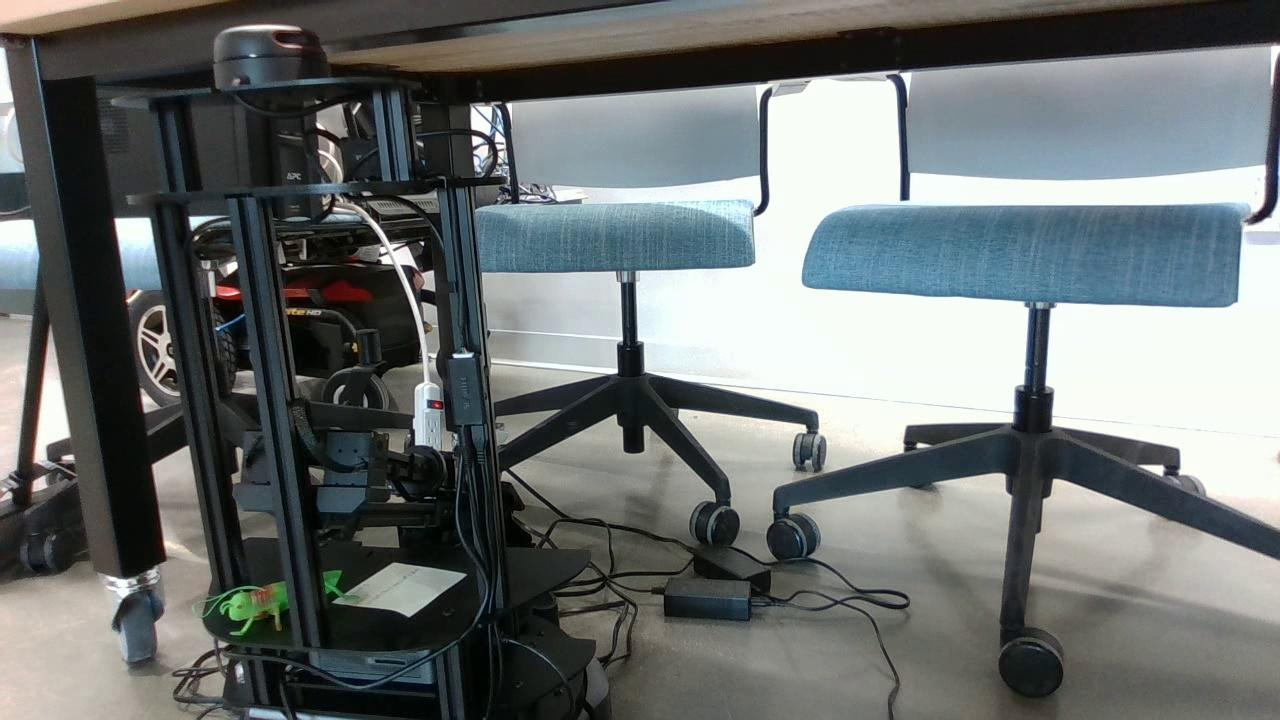grasshopper: (217, 568, 359, 631)
